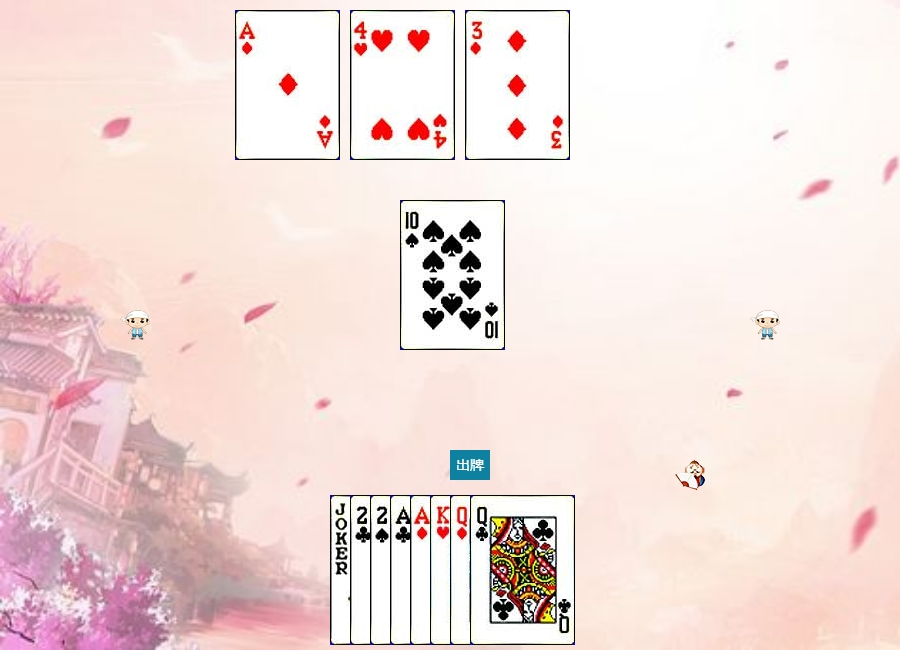10~4: (400, 200, 505, 350)
12~1: (450, 495, 555, 645)
12~2: (470, 495, 575, 645)
13~3: (430, 495, 535, 645)
14~1: (235, 10, 340, 160), (410, 495, 515, 645)
14~2: (390, 495, 495, 645)
15~2: (350, 495, 455, 645)
15~4: (370, 495, 475, 645)
17~3: (330, 495, 435, 645)
3~1: (465, 10, 570, 160)
4~3: (350, 10, 455, 160)
